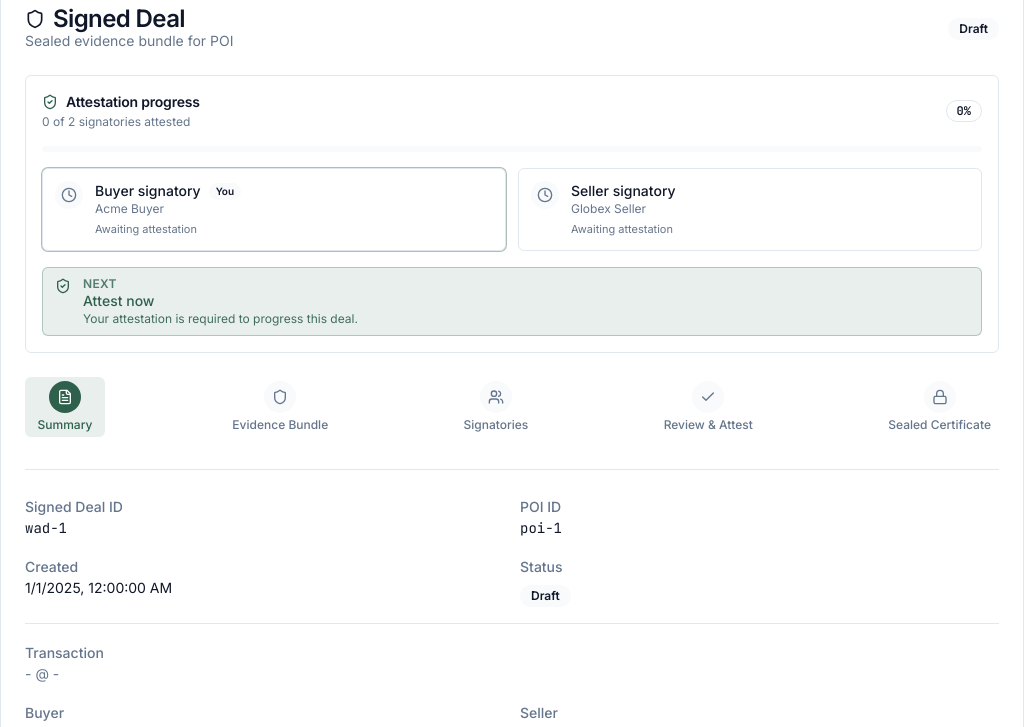
Attest error a11y › re-focuses the alert when a *new* error (different requestId) arrives
The image size is (1024, 727).
Click the button "Review & Attest": (708, 407) 656,377 -> 761,437
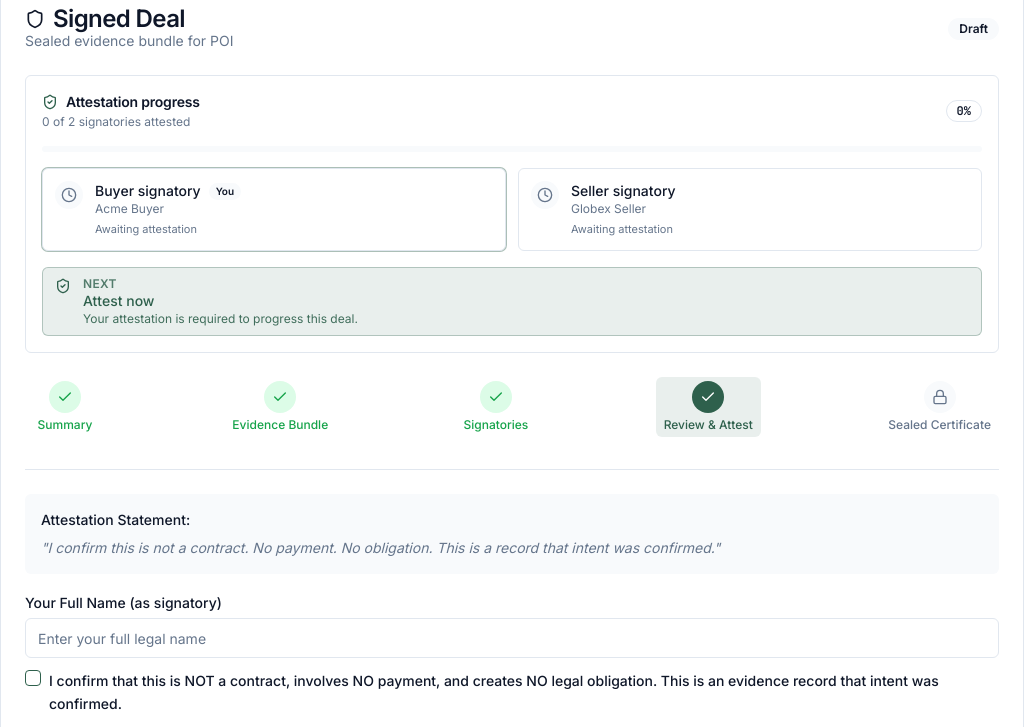
In the field labelled "Your Full Name (as signatory)": (512, 638) 25,618 -> 999,658, type "Jane Doe"
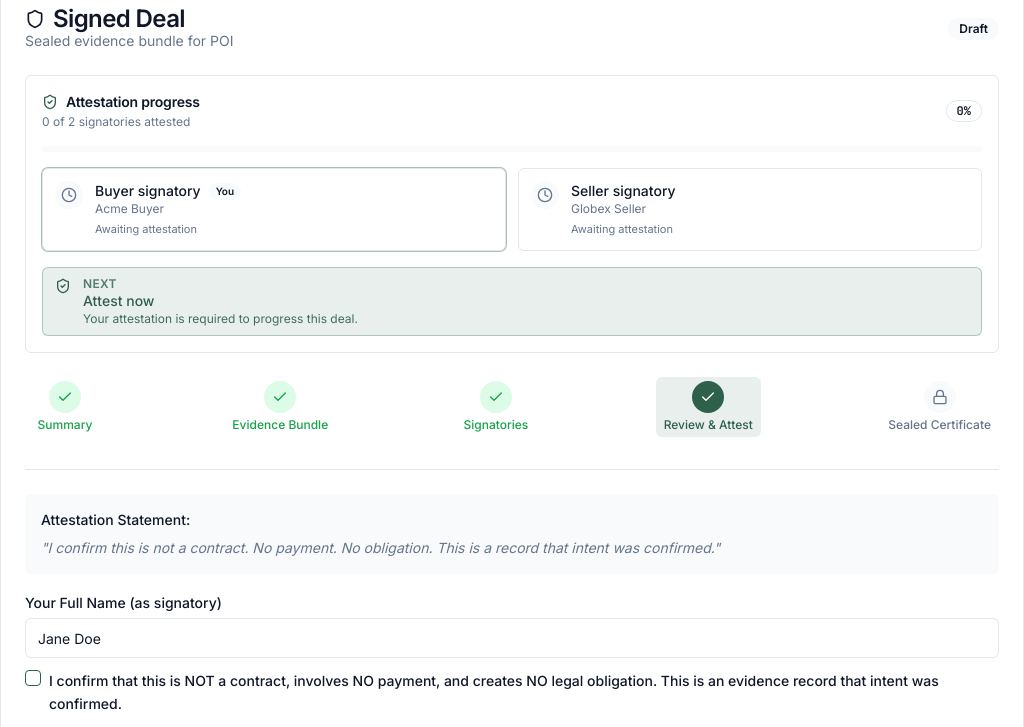
Click the checkbox named "i confirm that this is not a contract": (33, 678) 25,670 -> 41,686
(page scrolled)
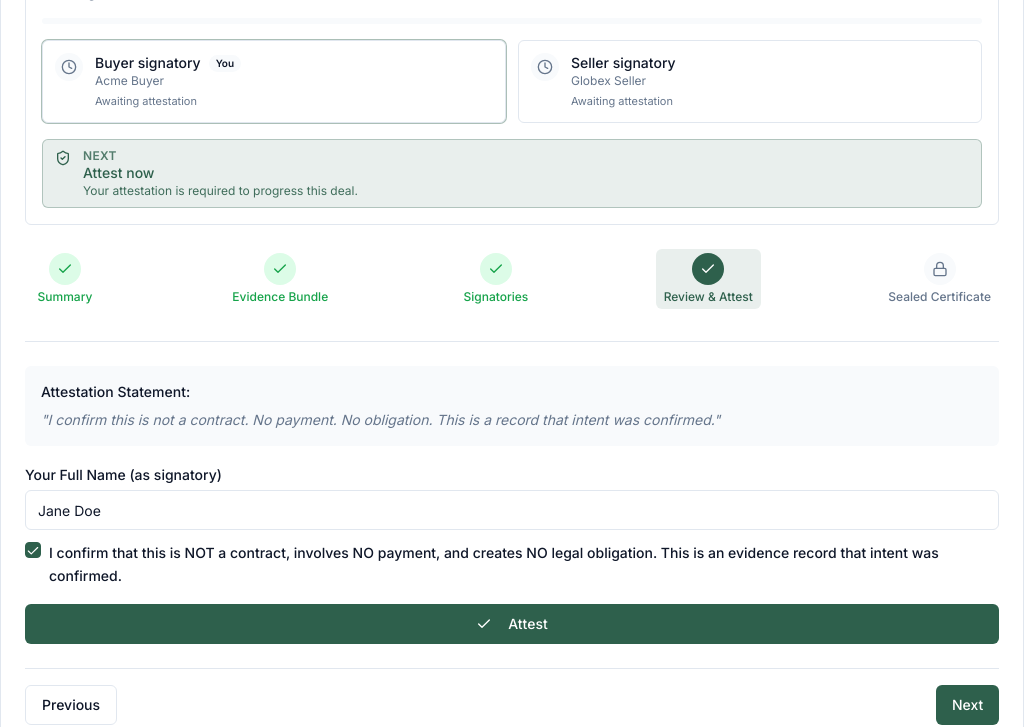
Click the button with test id "attest-submit-button": (512, 624) 25,604 -> 999,644
(page scrolled)
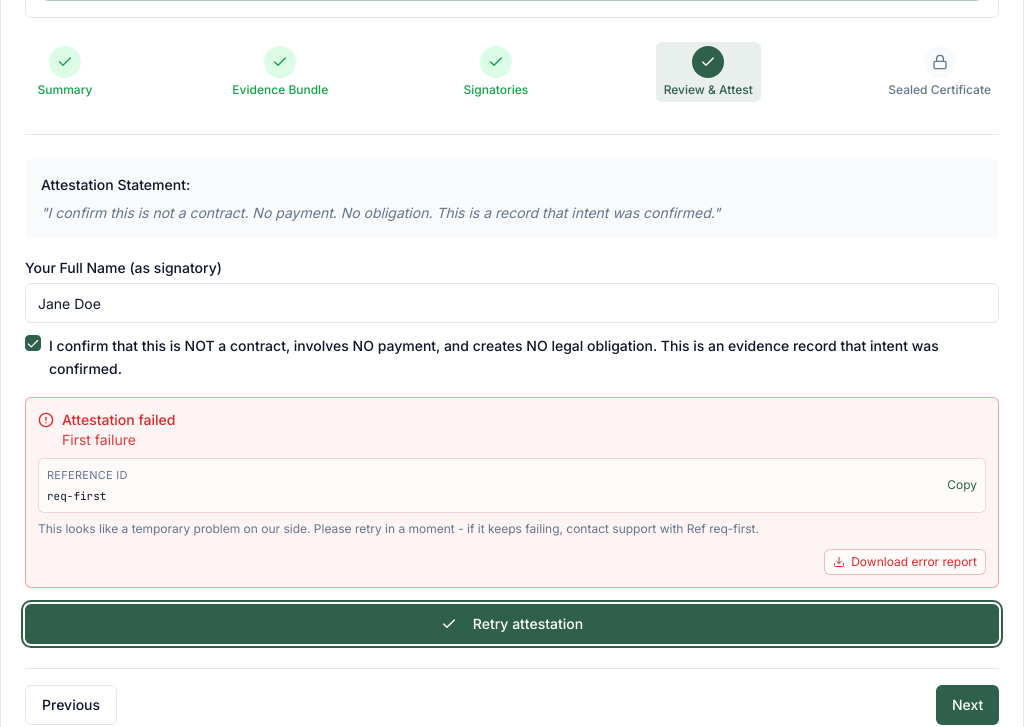
Click the button with test id "attest-submit-button": (512, 624) 25,604 -> 999,644
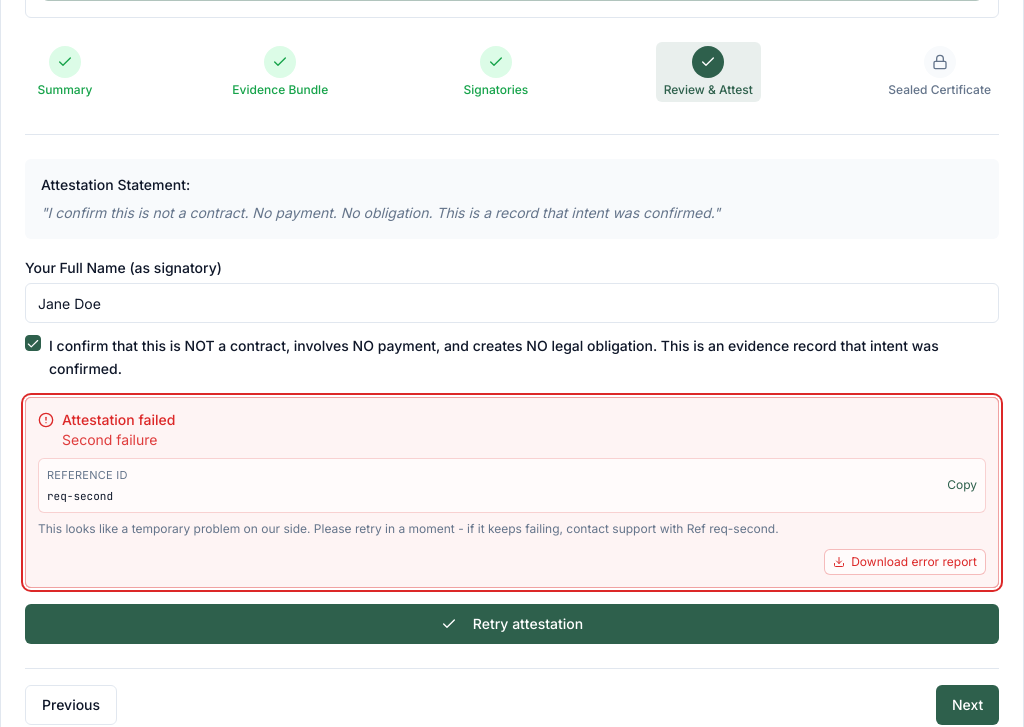
Check: the text "req-second" is shown, box 47,488 -> 113,502
